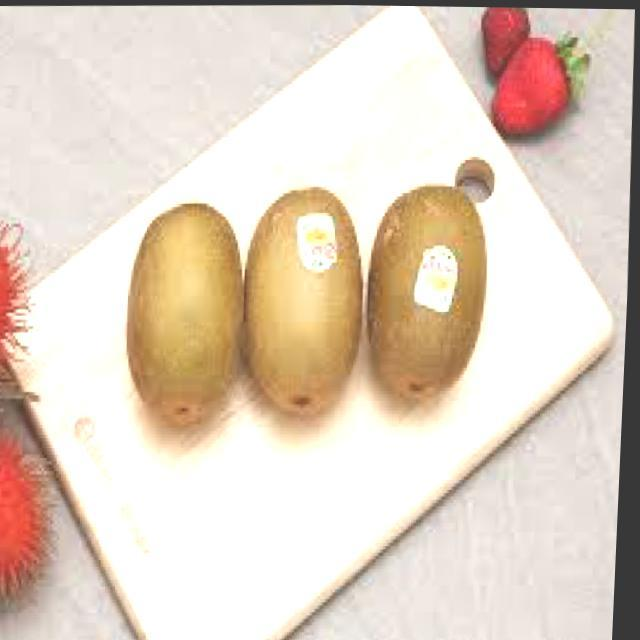kiwi: (233, 178, 375, 426), (118, 192, 261, 437), (358, 177, 501, 412)
